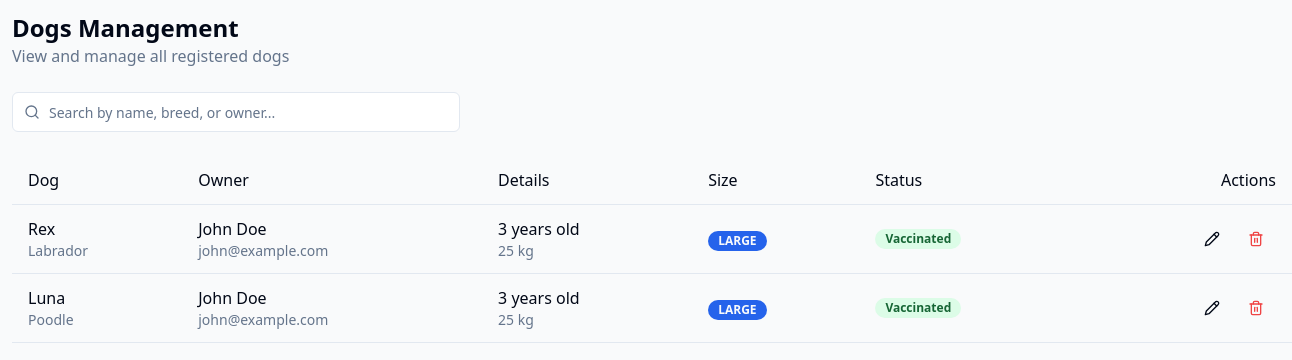
it: AdminDogsPage › filters dogs by search query
The image size is (1292, 360).
Expected: the text "Rex" is shown, [28,218,55,240]
Expected: the text "Luna" is shown, [28,287,65,309]
Type "luna" into the field with placeholder "Search by name, breed, or owner..." at (236, 112), box [12,92,460,132]
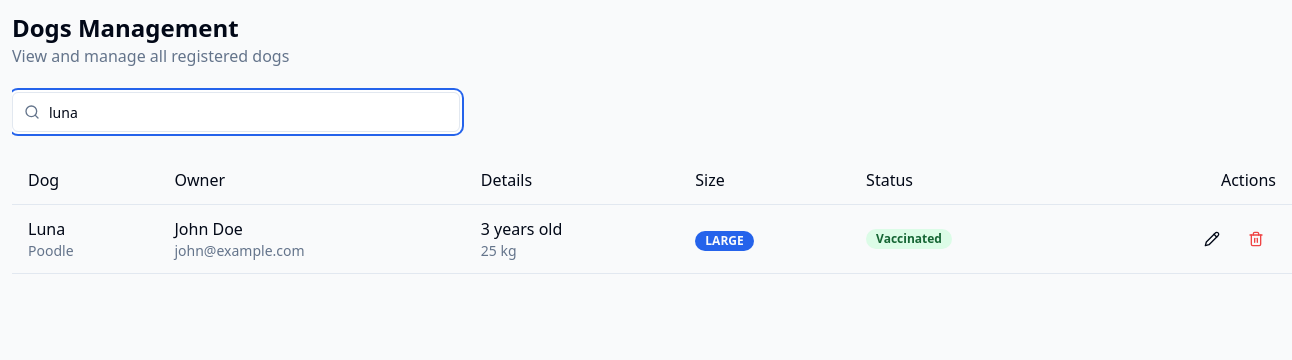
Expected: the text "Luna" is shown, [28,218,65,240]
Now the text "Rex" is gone
